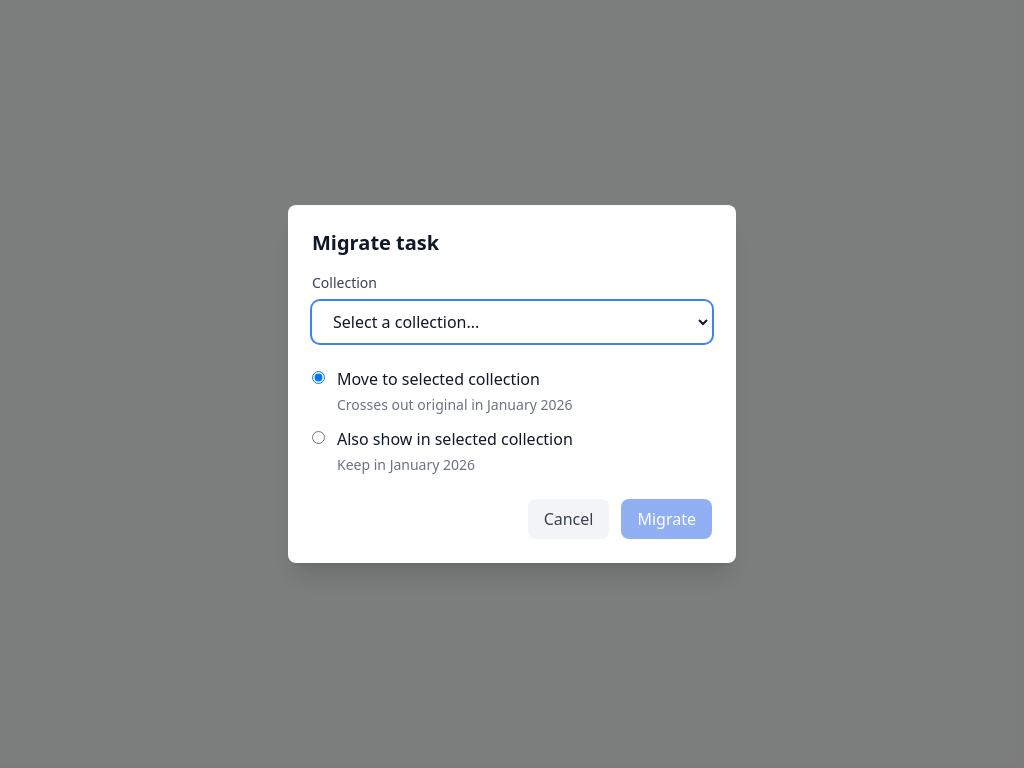
Test: MigrateEntryDialog - Error Handling › Migration Errors › should show generic error message for non-Error exceptions
# Select a collection first
Select "Saturday, January 24, 2026" in the dropdown labelled "Collection" at (512, 322), box [312,301,712,343]
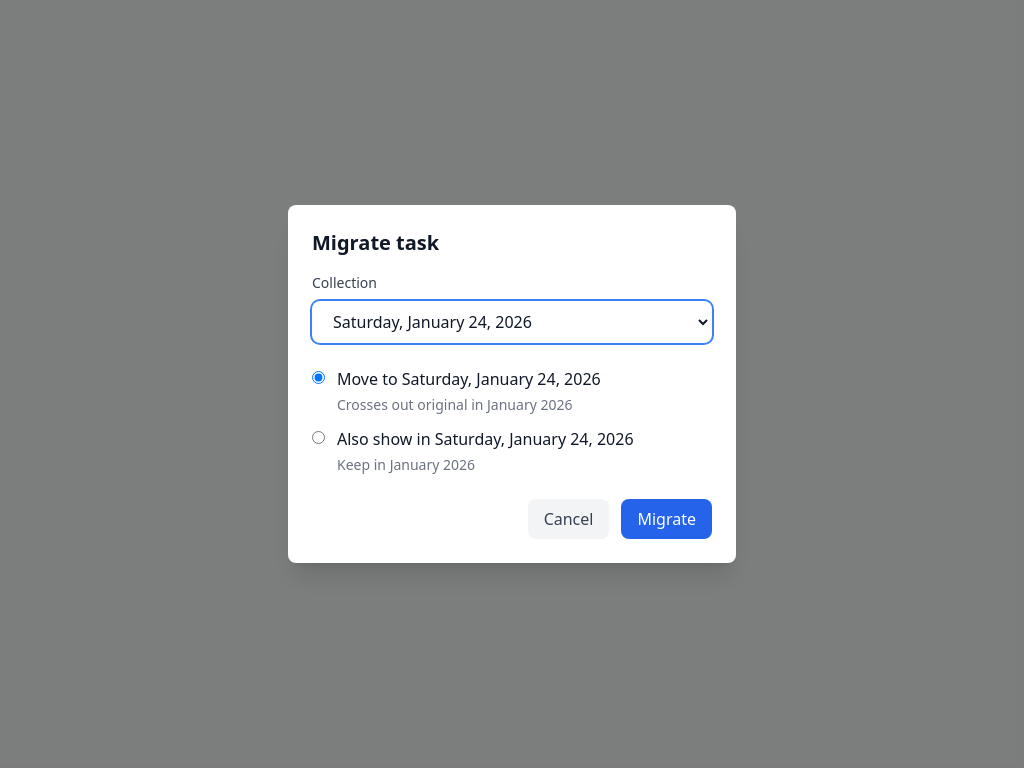
Click the button "Migrate".
click(667, 519)  # box [622,499,712,539]
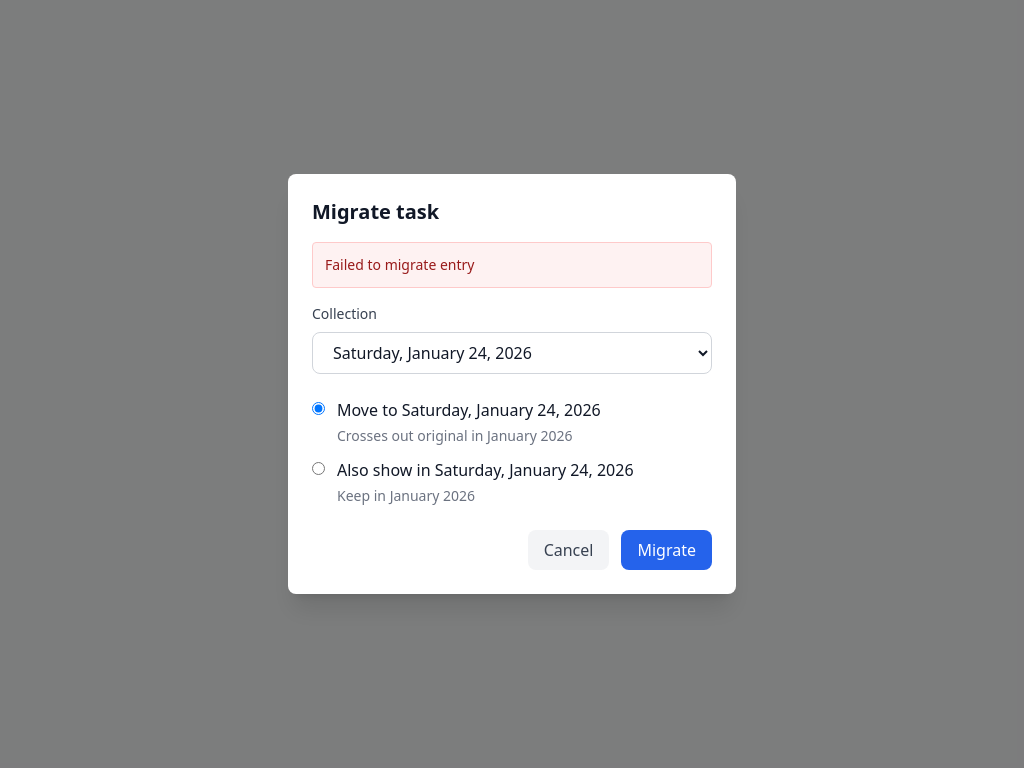
Check: the text "Failed to migrate entry" is shown, box [325,255,474,274]
